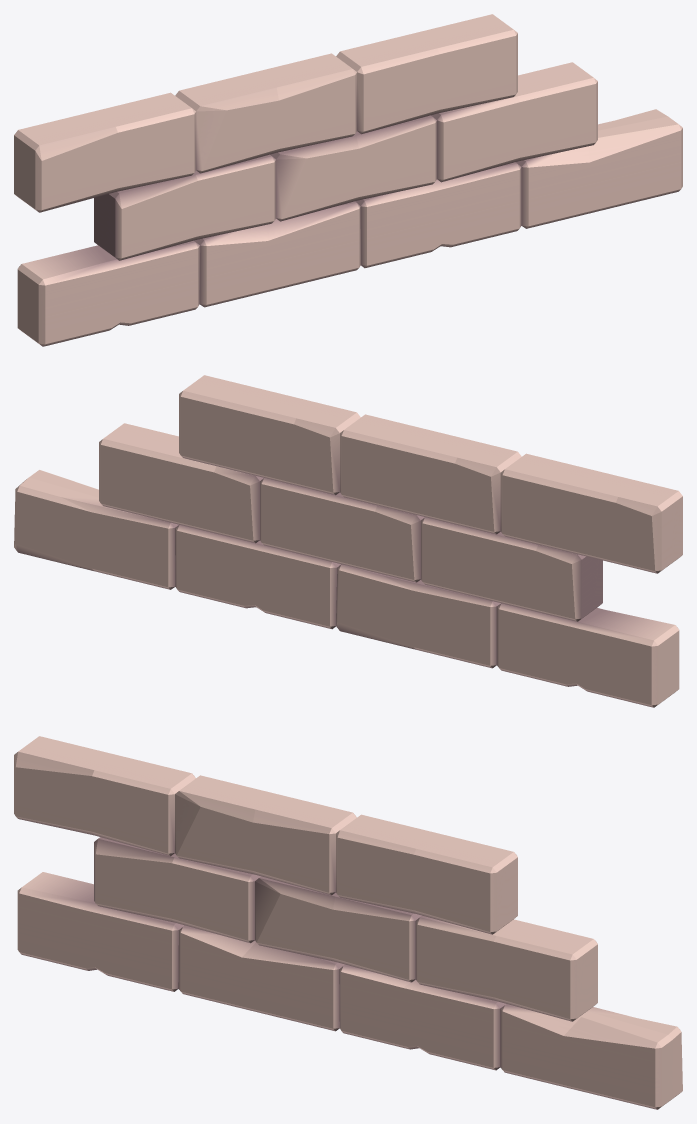
Rendered from wall2.fbx.
The picture shows the model from 3 angles, top to bottom: view 1: azimuth 30°, elevation 25°; view 2: azimuth 150°, elevation 25°; view 3: azimuth 330°, elevation 25°; orthographic projection.
Parts seen in each view (by area): view 1: Cube.005; view 2: Cube.005; view 3: Cube.005.
Part boxes in pixels (x1,y1,x2,y2): Cube.005: (14, 14, 682, 346); Cube.005: (14, 375, 682, 707); Cube.005: (14, 736, 682, 1109).
Bounding box in the file's own units: 805 × 240 × 56.
